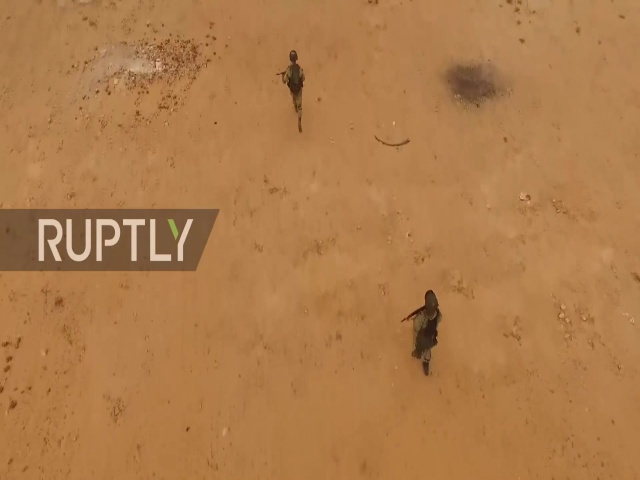person: (403, 288, 444, 380), (278, 48, 308, 137)
